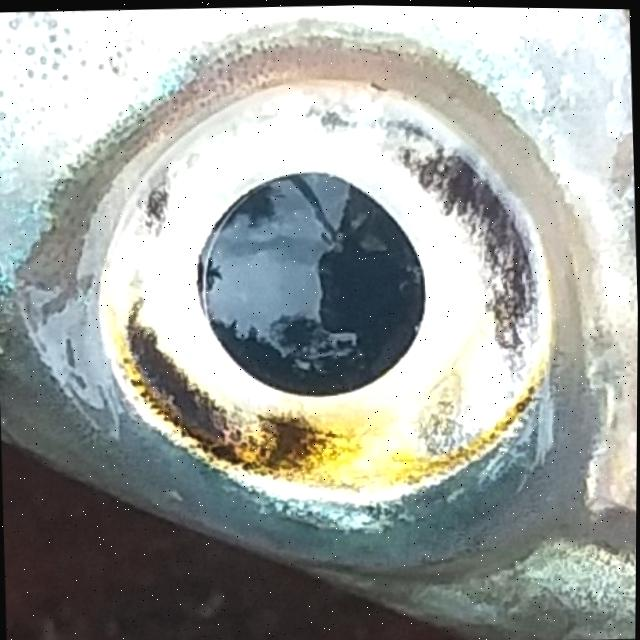Non-Fresh: (52, 42, 596, 522)
